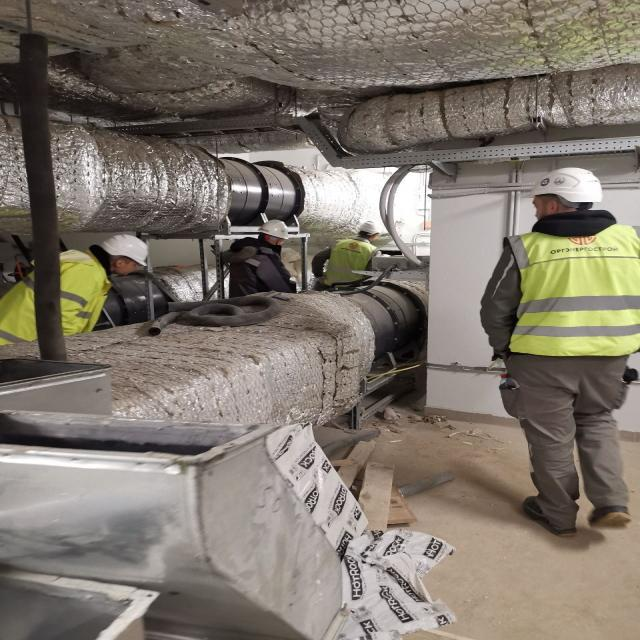Helmet: (521, 168, 605, 205), (103, 236, 151, 267), (259, 221, 290, 242), (360, 222, 383, 237)
Jacket: (518, 221, 638, 357), (2, 257, 103, 342), (326, 240, 374, 285)
NoJacket: (232, 242, 283, 294)
